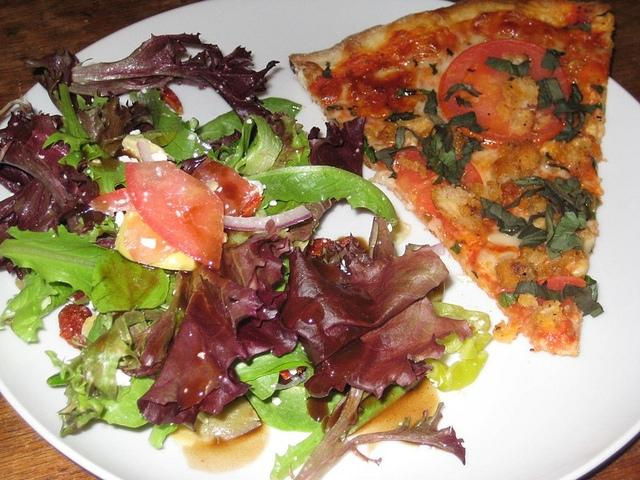lettuce: (138, 263, 298, 430), (68, 32, 290, 137), (282, 246, 450, 368), (304, 296, 473, 400), (288, 386, 466, 479), (1, 224, 170, 314), (44, 306, 148, 436), (42, 84, 127, 195), (244, 166, 399, 226), (0, 114, 84, 214), (130, 87, 227, 166), (424, 281, 492, 391), (76, 91, 156, 158), (222, 218, 296, 290), (192, 97, 302, 141), (232, 341, 314, 400), (308, 116, 368, 178), (246, 386, 320, 434), (8, 272, 58, 342), (228, 115, 282, 176), (95, 376, 154, 428), (209, 128, 242, 154), (148, 423, 179, 450), (144, 308, 165, 321)
onion: (224, 204, 312, 230), (136, 140, 154, 162)
tomato: (439, 40, 570, 145), (124, 161, 223, 269), (192, 157, 264, 217), (396, 174, 444, 224), (88, 188, 137, 217), (392, 150, 432, 184), (537, 276, 586, 290)
